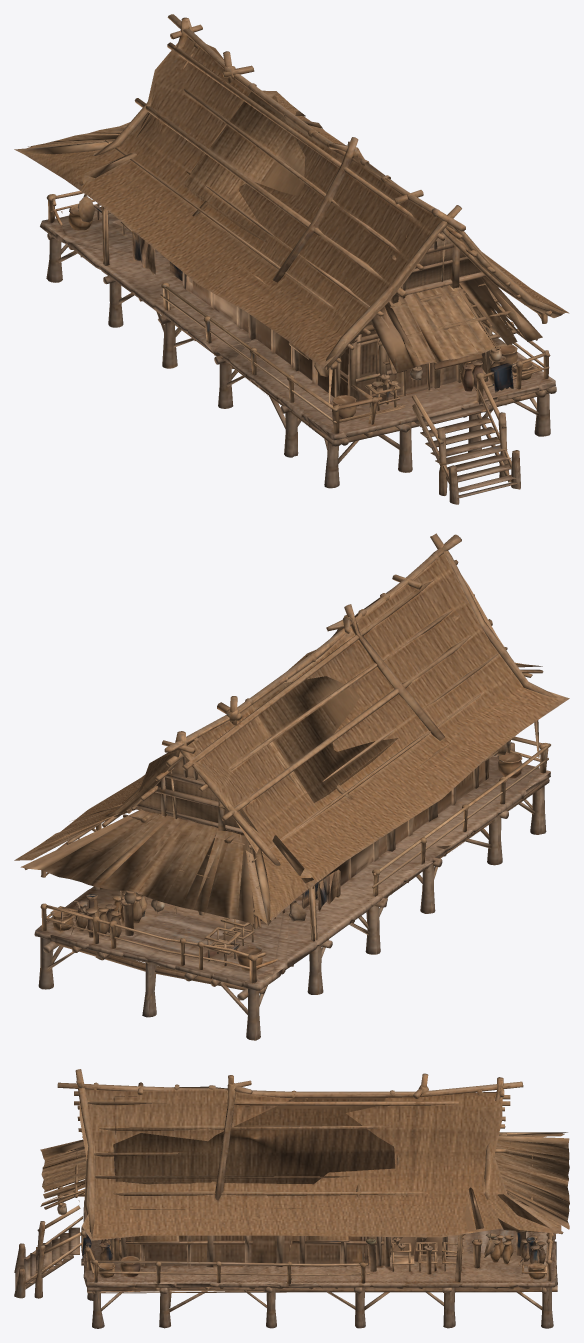
File: Meshy_AI_Bamboo_Haven_1010013621_texture.fbx
The picture shows the model from 3 angles, top to bottom: view 1: azimuth 30°, elevation 25°; view 2: azimuth 150°, elevation 25°; view 3: azimuth 270°, elevation 25°; orthographic projection. The views are drawn at different scales.
Parts seen in each view (by area): view 1: Mesh_0; view 2: Mesh_0; view 3: Mesh_0.
Part boxes in pixels (bbox=[...]): Mesh_0: bbox=[14, 14, 569, 504]; Mesh_0: bbox=[14, 533, 569, 1040]; Mesh_0: bbox=[14, 1069, 569, 1328].
Size of the model in its own units: 40.82 by 39.75 by 94.82.
Materials: 1 (1 with a texture image).
